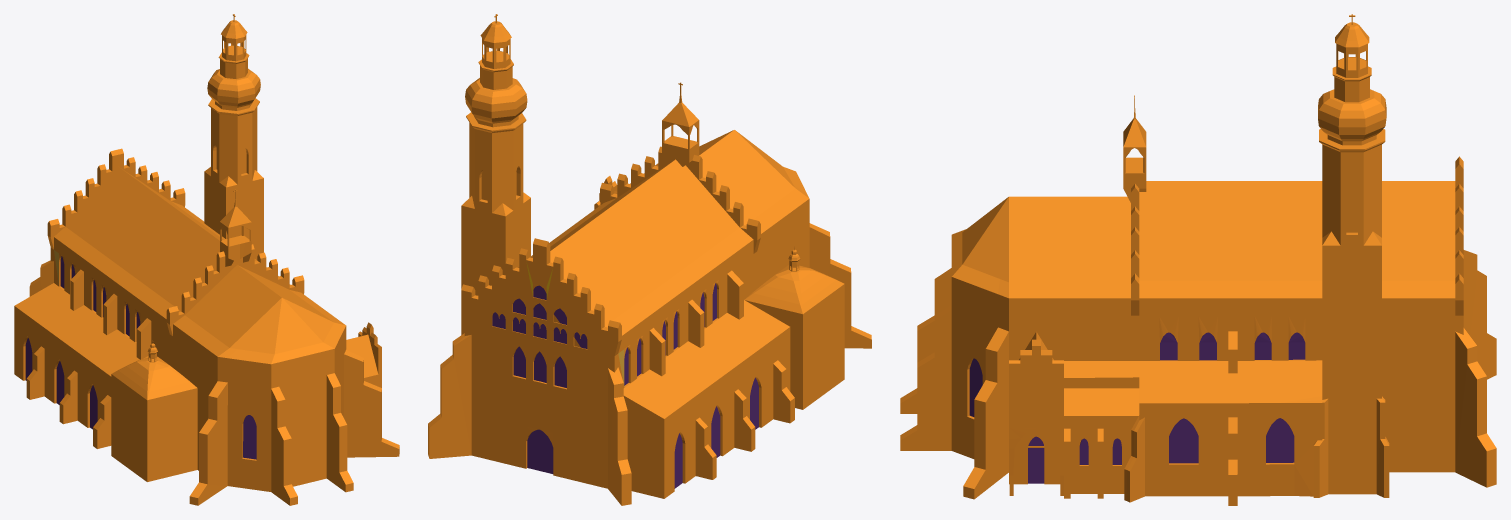
Rendered from Kościół św Jana Chrzciciela.fbx.
The picture shows the model from 3 angles, left to right: view 1: azimuth 30°, elevation 25°; view 2: azimuth 150°, elevation 25°; view 3: azimuth 270°, elevation 25°; orthographic projection. The views are drawn at different scales.
Visible parts, largest first — view 1: Cube_Cube_004; view 2: Cube_Cube_004; view 3: Cube_Cube_004.
Boxes of the visible parts, bbox=[...] form: Cube_Cube_004: bbox=[14, 14, 399, 505]; Cube_Cube_004: bbox=[428, 14, 871, 505]; Cube_Cube_004: bbox=[900, 14, 1496, 505].
Size of the model in its own units: 34.62 by 48.81 by 56.41.
Materials: 1 (1 with a texture image).
